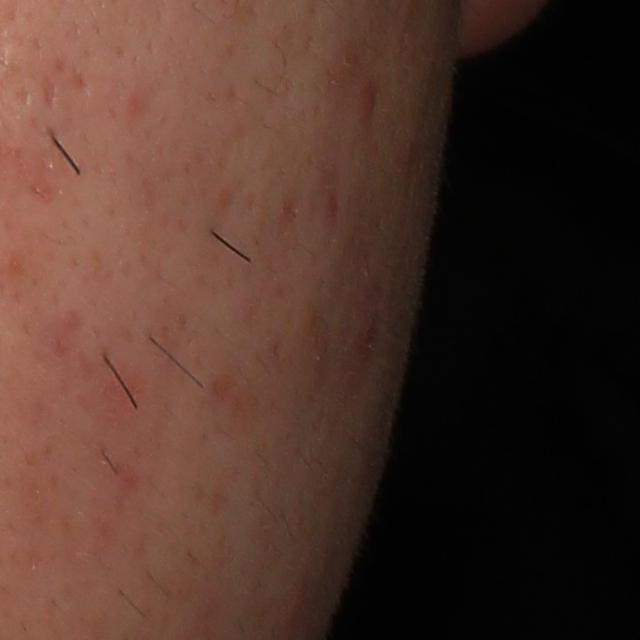atrophic_scar: (62, 62, 90, 93), (41, 73, 61, 116)
papule: (356, 79, 380, 117)
